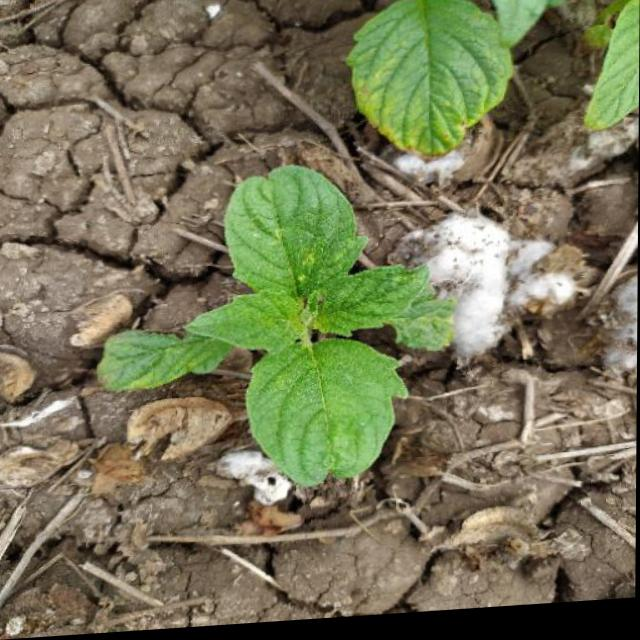crop: (108, 161, 448, 533)
